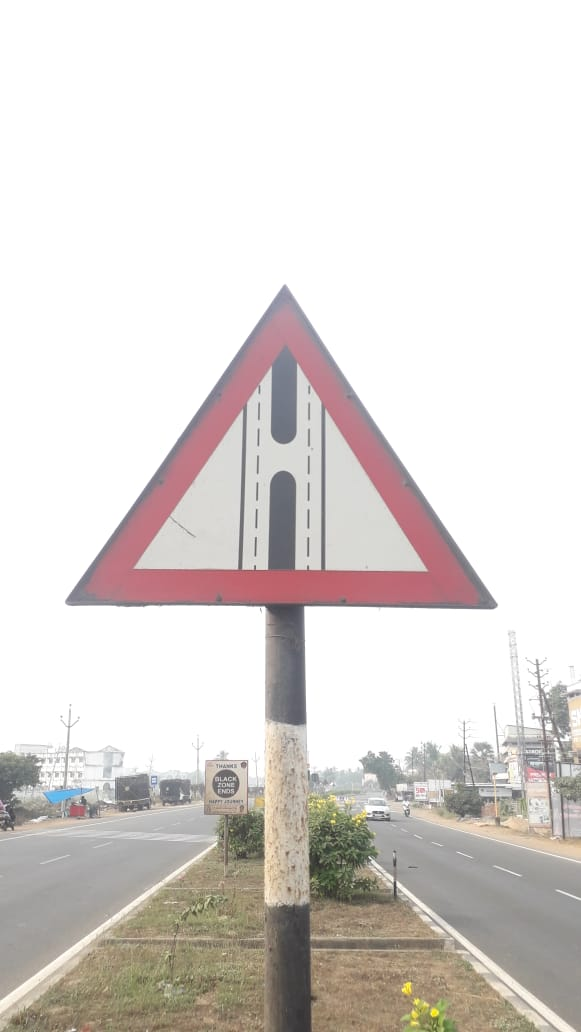highway go straight: (39, 277, 554, 643)
